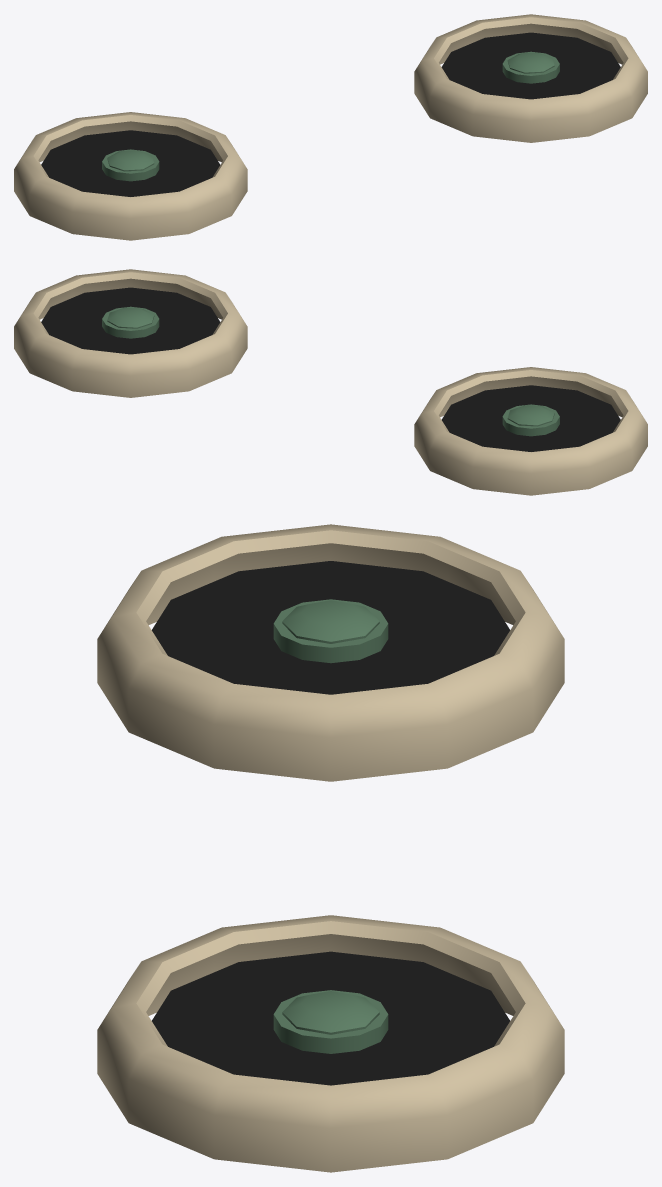
The model's file is t60_fan.obj.
The picture shows the model from 3 angles, top to bottom: view 1: azimuth 30°, elevation 25°; view 2: azimuth 150°, elevation 25°; view 3: azimuth 270°, elevation 25°; orthographic projection. The views are drawn at different scales.
Parts seen in each view (by area): view 1: t60_fan; view 2: t60_fan; view 3: t60_fan.
Boxes of the visible parts, bbox=[...] form: t60_fan: bbox=[14, 14, 647, 240]; t60_fan: bbox=[14, 269, 647, 495]; t60_fan: bbox=[97, 524, 564, 1172].
Size of the model in its own units: 2.86 by 0.16 by 0.96.
